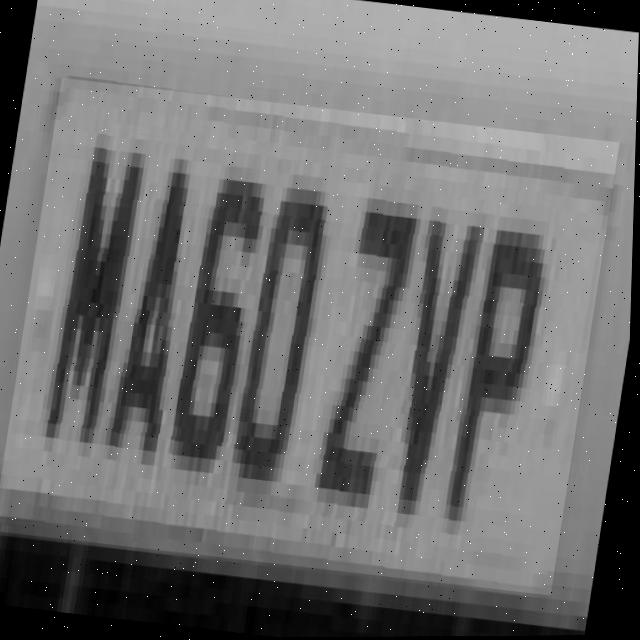LicensePlate: (0, 74, 621, 599)
